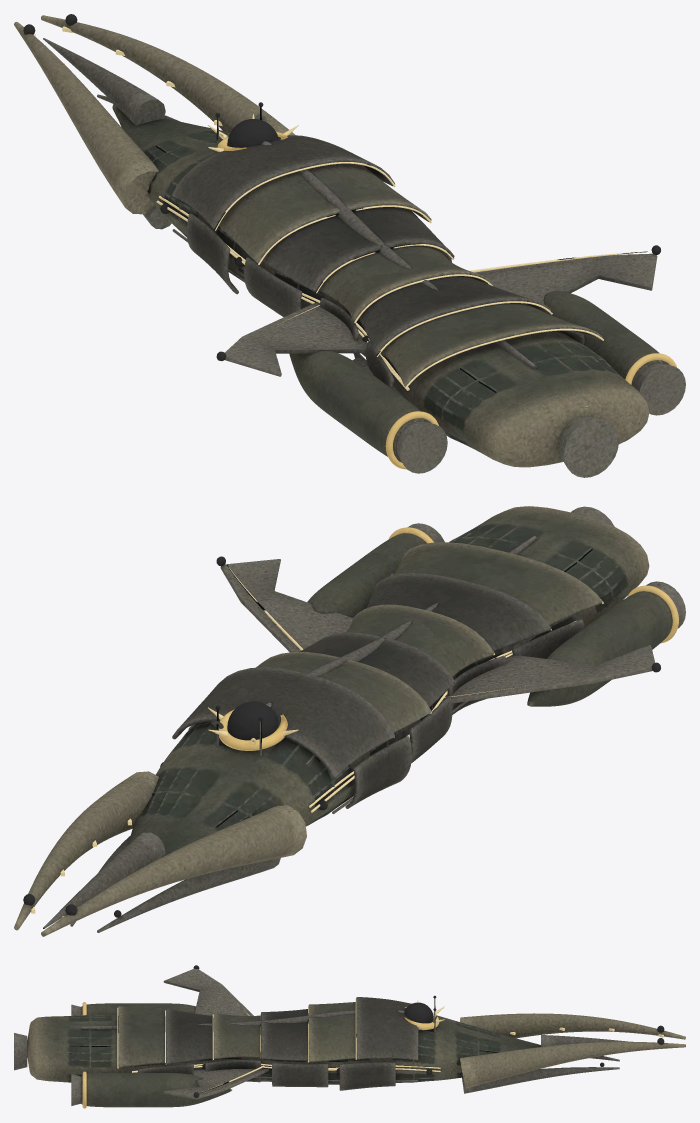
The model's file is green_seed_hero-X4MOAT62.glb.
3 renders of one model, top to bottom at view 1: azimuth 30°, elevation 25°; view 2: azimuth 150°, elevation 25°; view 3: azimuth 270°, elevation 25°, orthographic. The views are drawn at different scales.
Visible parts, largest first — view 1: HullBaked; view 2: HullBaked; view 3: HullBaked.
Part boxes in pixels (x1,y1,x2,y2): HullBaked: [14, 14, 685, 477]; HullBaked: [14, 506, 685, 936]; HullBaked: [14, 965, 685, 1108].
Bounding box in the file's own units: 18.55 × 5.06 × 40.75.
1 material, 1 textured.
